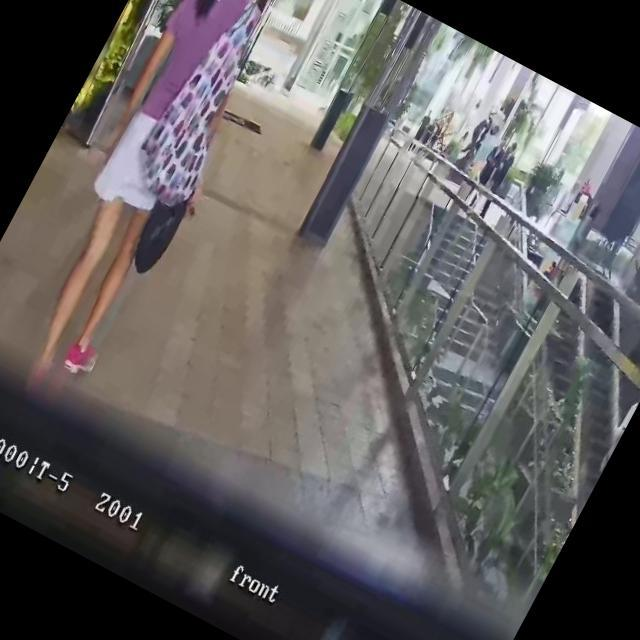person: (0, 0, 312, 396), (471, 140, 522, 222), (460, 135, 511, 214), (404, 107, 436, 157), (412, 117, 441, 160)
